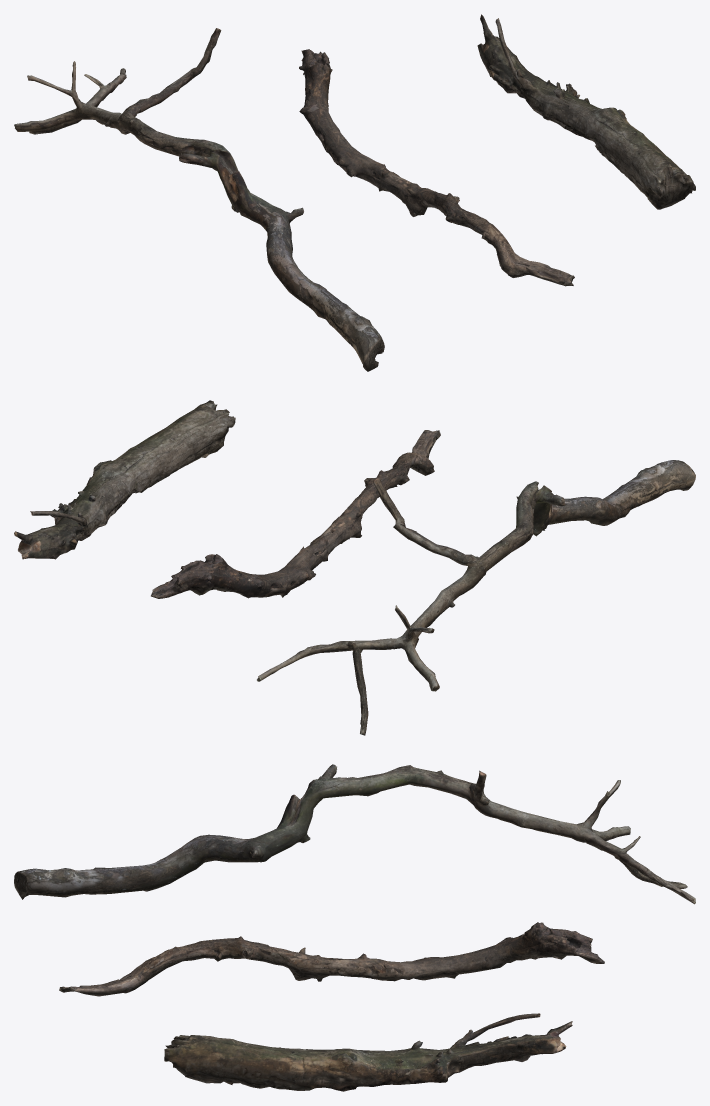
File: dry_branches_medium_01.glb
3 renders of one model, top to bottom at view 1: azimuth 30°, elevation 25°; view 2: azimuth 150°, elevation 25°; view 3: azimuth 270°, elevation 25°, orthographic. The views are drawn at different scales.
Visible parts, largest first — view 1: dry_branches_medium_01_a, dry_branches_medium_01_c, dry_branches_medium_01_b; view 2: dry_branches_medium_01_a, dry_branches_medium_01_c, dry_branches_medium_01_b; view 3: dry_branches_medium_01_a, dry_branches_medium_01_c, dry_branches_medium_01_b.
Part boxes in pixels (x1,y1,x2,y2): dry_branches_medium_01_a: (14,28,384,371); dry_branches_medium_01_c: (477,14,695,209); dry_branches_medium_01_b: (299,49,574,286); dry_branches_medium_01_a: (257,460,695,735); dry_branches_medium_01_c: (14,400,235,559); dry_branches_medium_01_b: (151,430,440,598); dry_branches_medium_01_a: (14,764,695,904); dry_branches_medium_01_c: (164,1013,572,1091); dry_branches_medium_01_b: (59,922,604,996).
Bounding box in the file's own units: 1.06 × 0.3403 × 1.3.
Materials: 1 (1 with a texture image).
